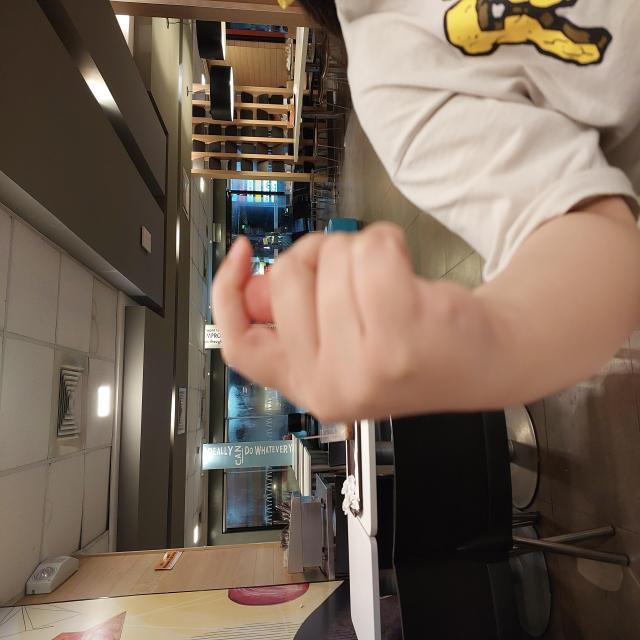T: (215, 209, 422, 511)
